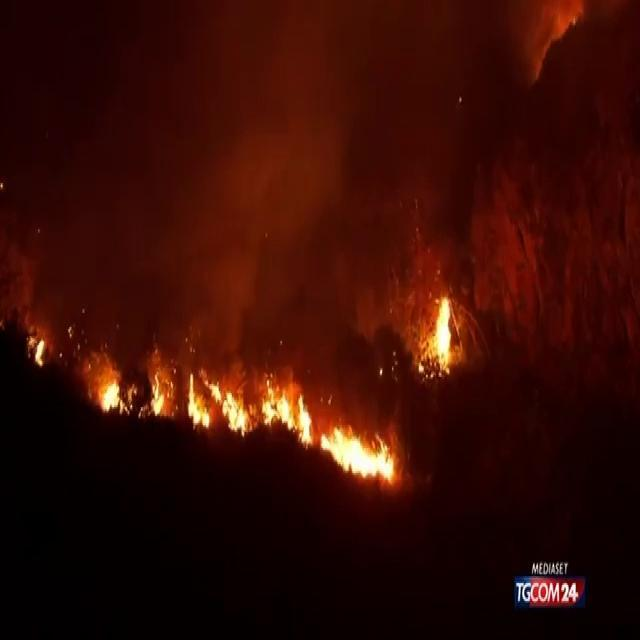Fire: (186, 362, 316, 442), (318, 412, 401, 488), (418, 287, 459, 376), (146, 352, 177, 414), (95, 368, 131, 420), (24, 321, 54, 372)
Smoke: (2, 0, 506, 302)
